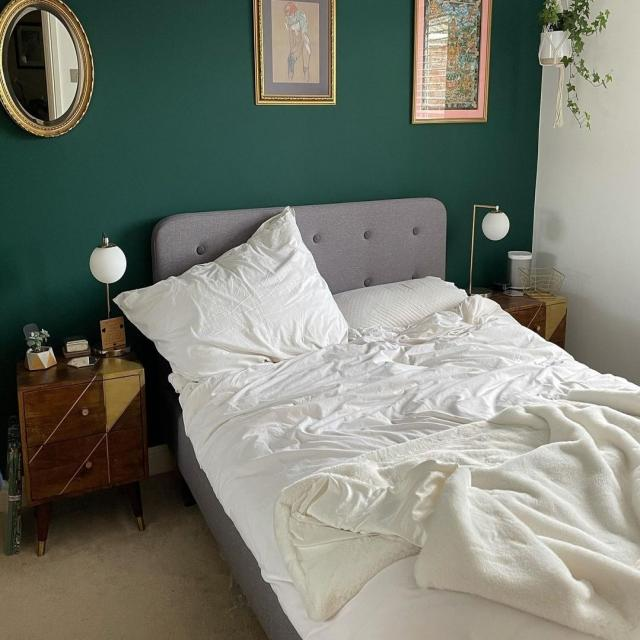bed: (170, 219, 640, 640)
